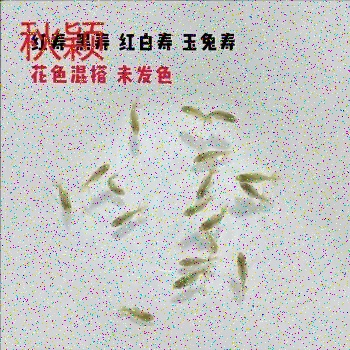fry: (164, 265, 214, 293), (114, 298, 160, 328), (106, 203, 149, 233), (46, 180, 78, 219), (124, 96, 148, 142), (234, 245, 255, 296), (235, 167, 286, 187), (187, 166, 216, 200), (174, 99, 211, 125), (210, 105, 243, 134), (188, 146, 236, 164), (78, 157, 111, 183), (236, 179, 269, 204), (170, 252, 217, 269), (202, 230, 227, 261), (199, 210, 227, 234), (179, 198, 212, 218), (107, 172, 126, 198)
